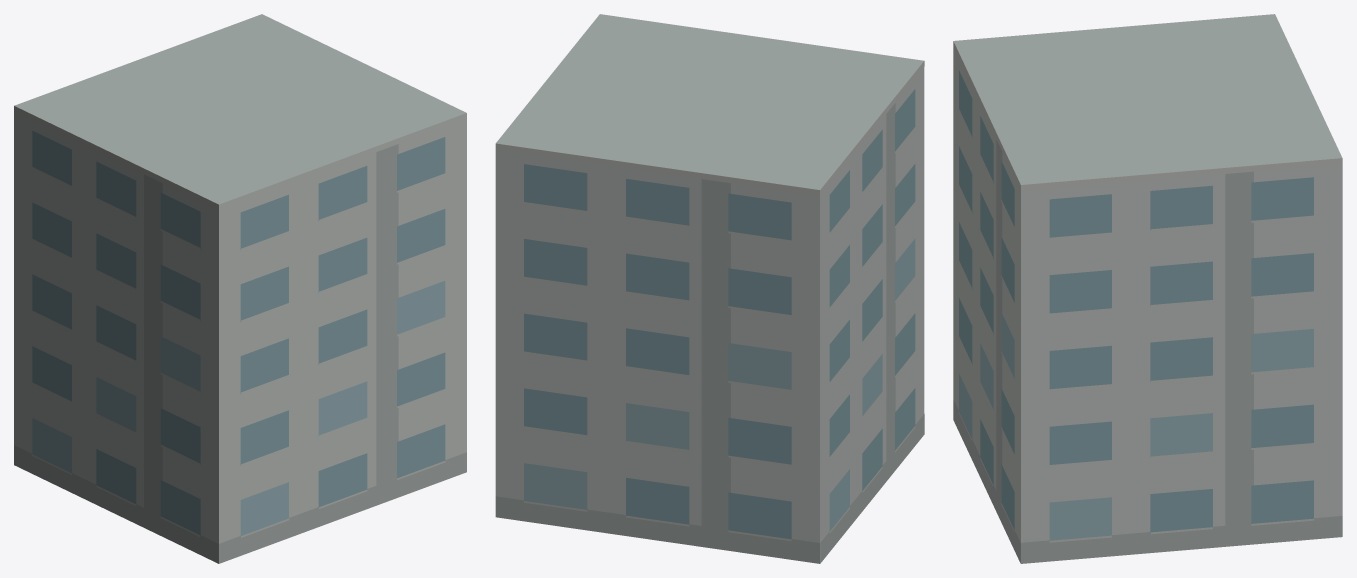
File: residential-e9716356-f6f8-452d-a612-743a348a3e52.glb
3 renders of one model, left to right at view 1: azimuth 30°, elevation 25°; view 2: azimuth 150°, elevation 25°; view 3: azimuth 270°, elevation 25°, orthographic. The views are drawn at different scales.
Visible parts, largest first — view 1: residential-e9716356-f6f8-452d-a612-743a348a3e52.tmp; view 2: residential-e9716356-f6f8-452d-a612-743a348a3e52.tmp; view 3: residential-e9716356-f6f8-452d-a612-743a348a3e52.tmp.
Part boxes in pixels (left/top/right/bottom): residential-e9716356-f6f8-452d-a612-743a348a3e52.tmp: left=14, top=14, right=466, bottom=563; residential-e9716356-f6f8-452d-a612-743a348a3e52.tmp: left=495, top=14, right=924, bottom=563; residential-e9716356-f6f8-452d-a612-743a348a3e52.tmp: left=953, top=14, right=1342, bottom=563.
Size of the model in its own units: 14.77 by 15.25 by 14.21.
